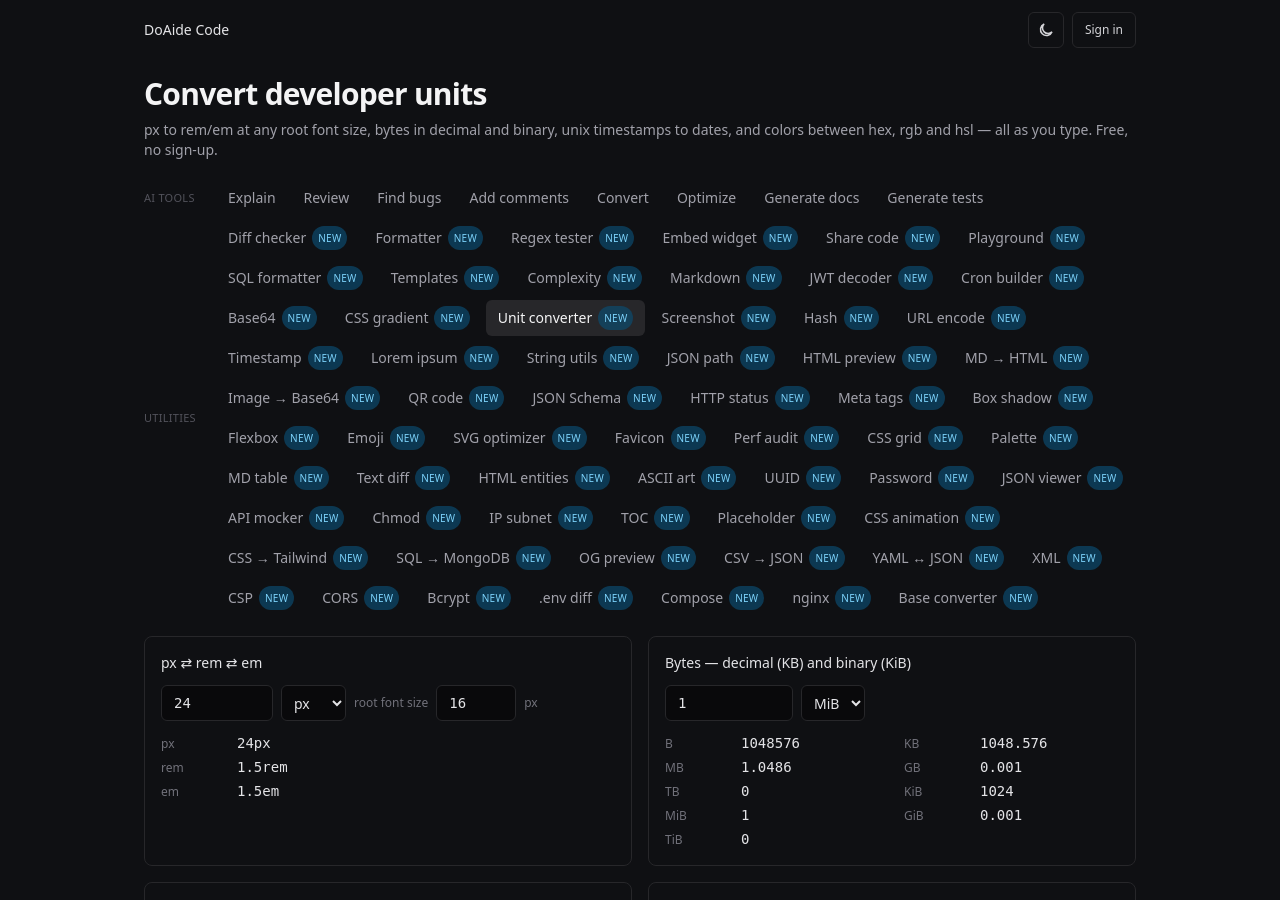
Test: UnitPage › respects a custom root font size
Replace the text in the number field with test id "px-base" with "10": (476, 703) [436, 685, 516, 721]
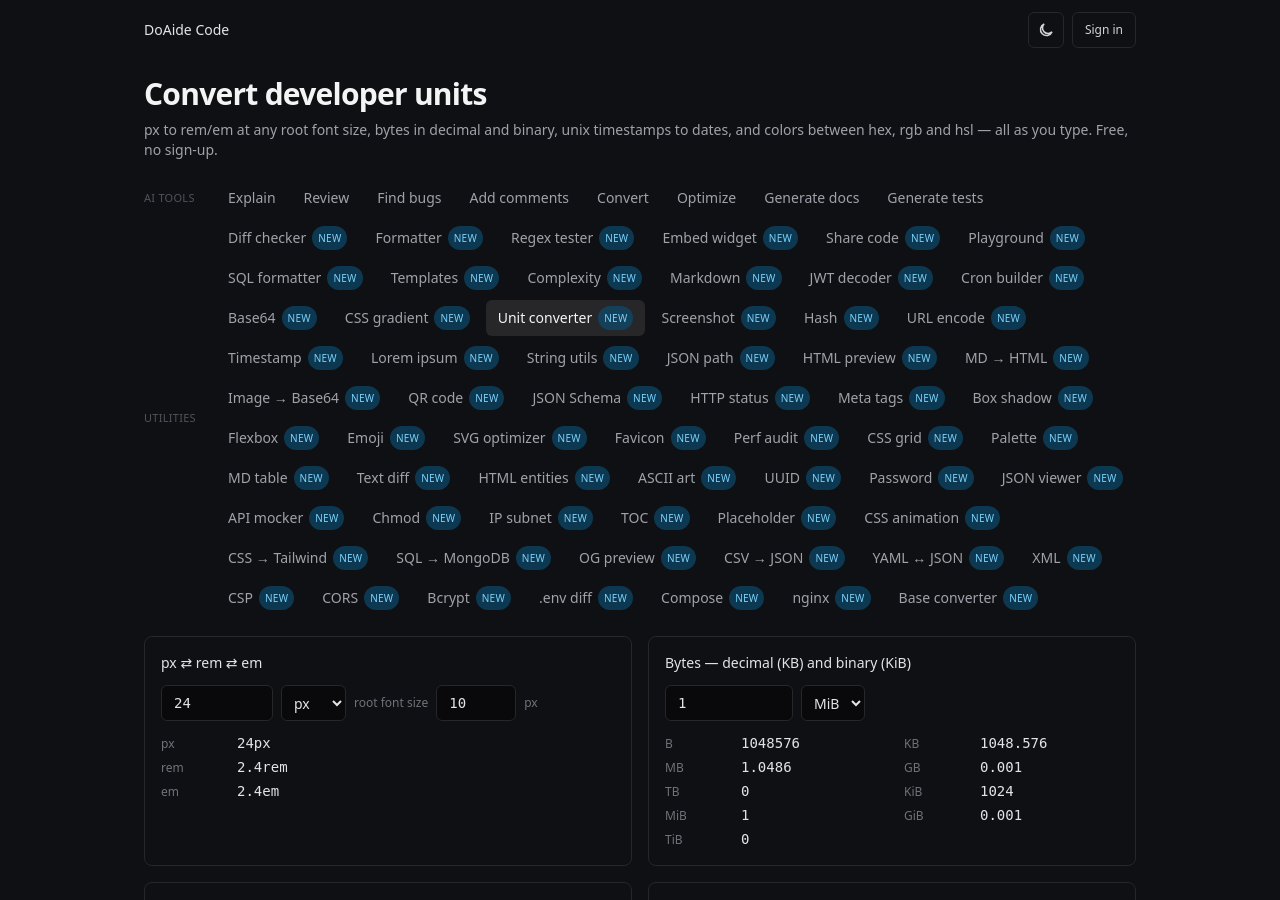
Result: the element with test id "px-out" shows "2.4rem" at [237, 759, 288, 775]
